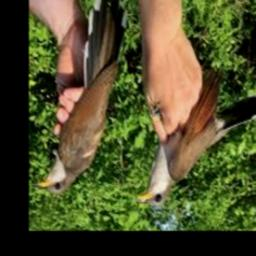Cuckoo: (38, 0, 125, 194), (137, 65, 256, 206)
